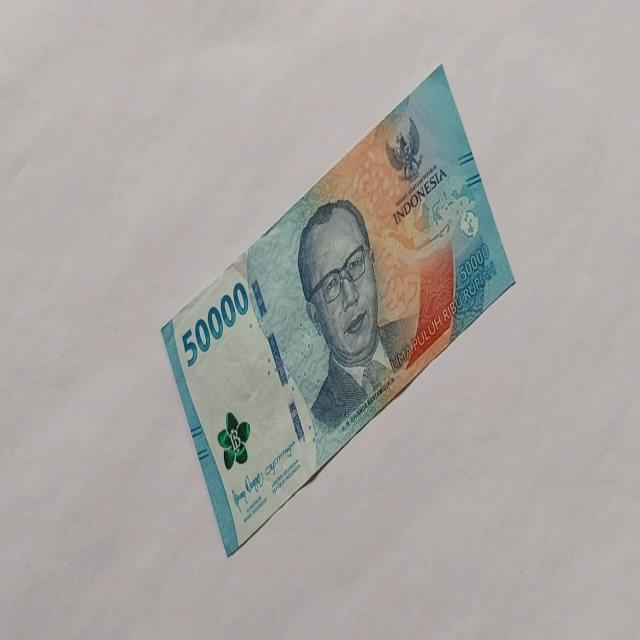lima puluh ribu rupiah: (160, 62, 516, 556), (296, 196, 409, 433), (180, 280, 250, 368)
